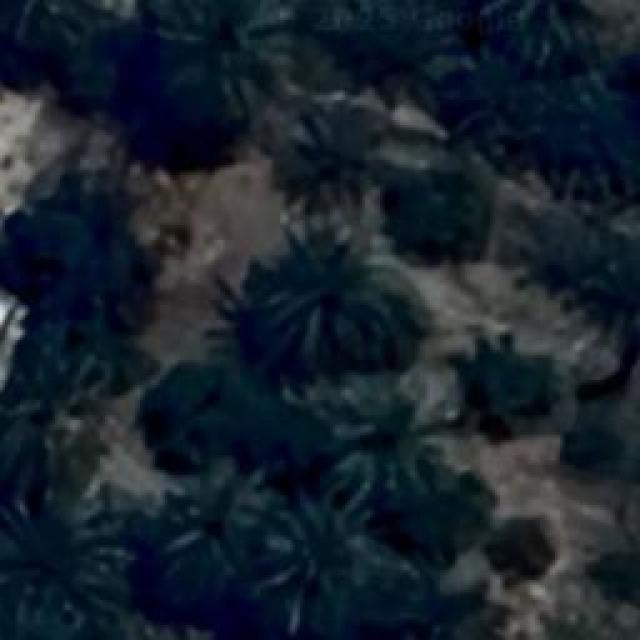PalmTree: (105, 118, 434, 606), (121, 67, 588, 140), (250, 220, 412, 348), (252, 478, 366, 636), (144, 7, 284, 132), (136, 460, 256, 602), (1, 501, 124, 639), (326, 386, 464, 504), (304, 0, 452, 99), (0, 361, 105, 479), (535, 208, 640, 326), (394, 150, 498, 268), (286, 94, 389, 208), (455, 329, 553, 439), (470, 0, 598, 78), (0, 0, 121, 49), (575, 390, 639, 482), (593, 241, 640, 354), (593, 527, 640, 610), (121, 623, 233, 640)
